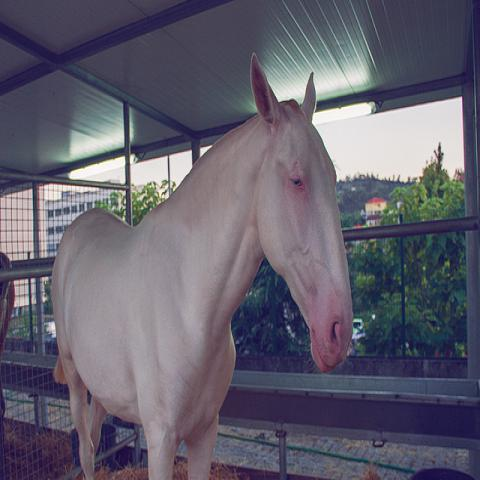car: (24, 322, 59, 357), (353, 319, 365, 335)
